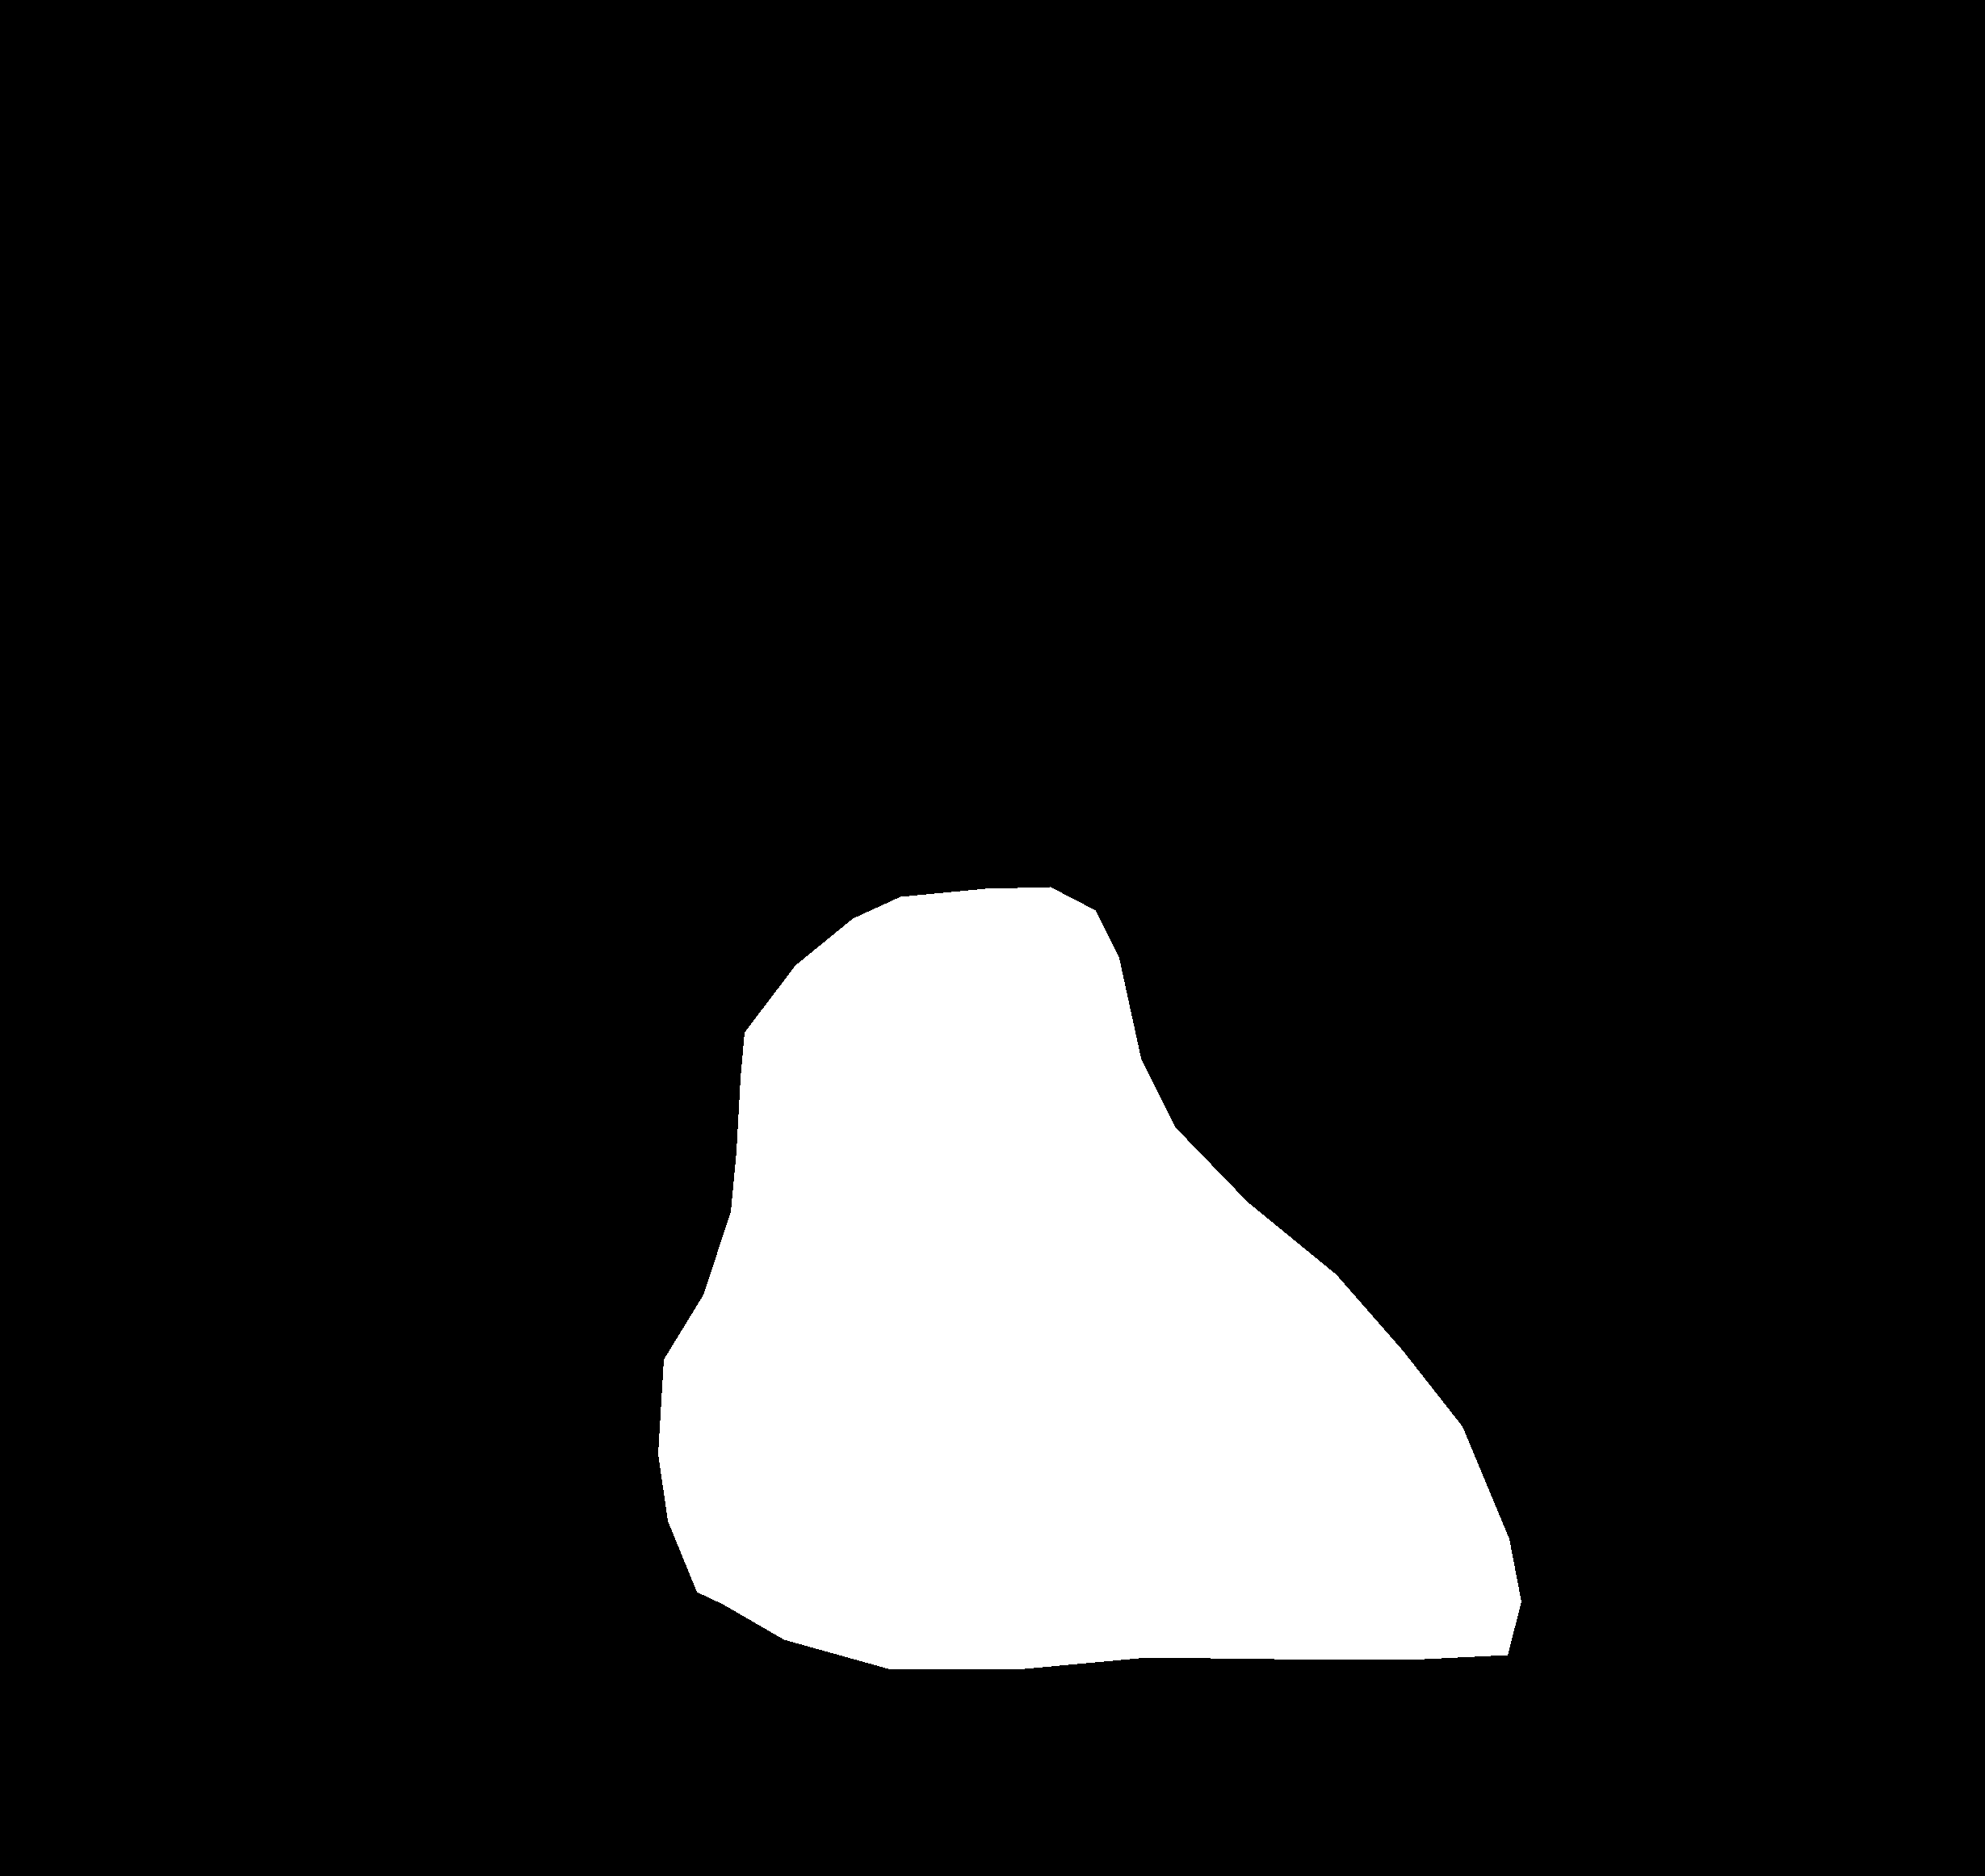heart: (658, 887, 1521, 1668)
left_lung: (90, 331, 792, 1874)
right_lung: (1007, 321, 1814, 1853)
